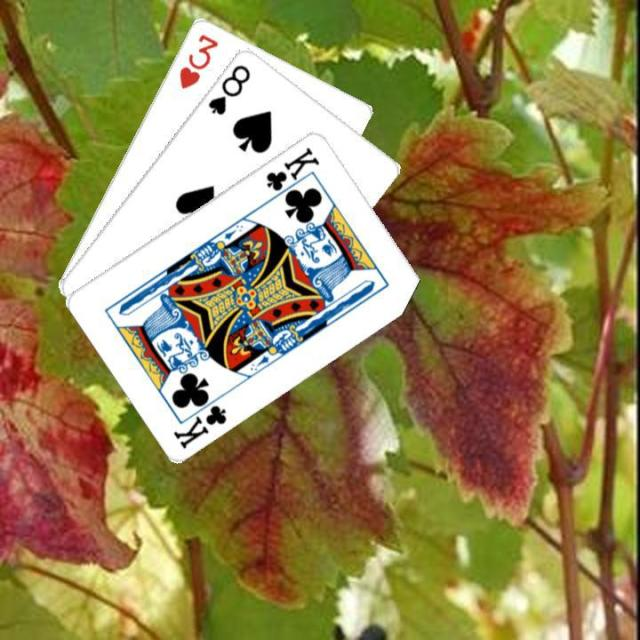3H: (174, 29, 220, 91)
8S: (204, 60, 252, 116)
KC: (262, 142, 322, 204), (170, 388, 229, 450)
